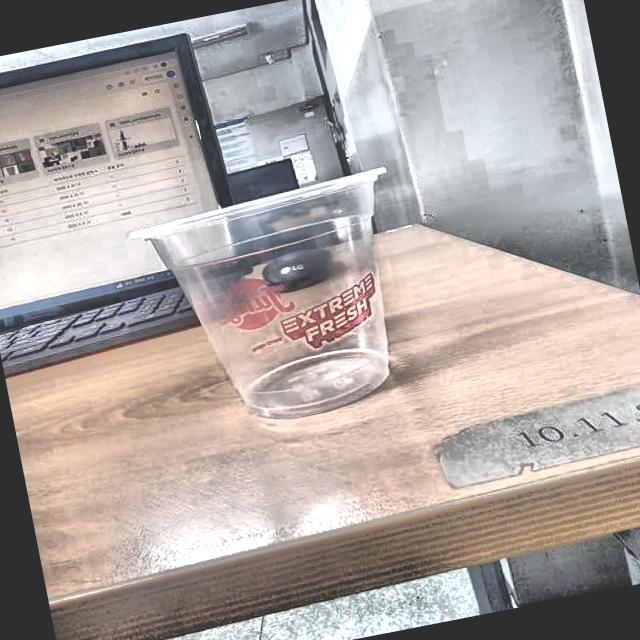plastic cup: (128, 163, 439, 440)
